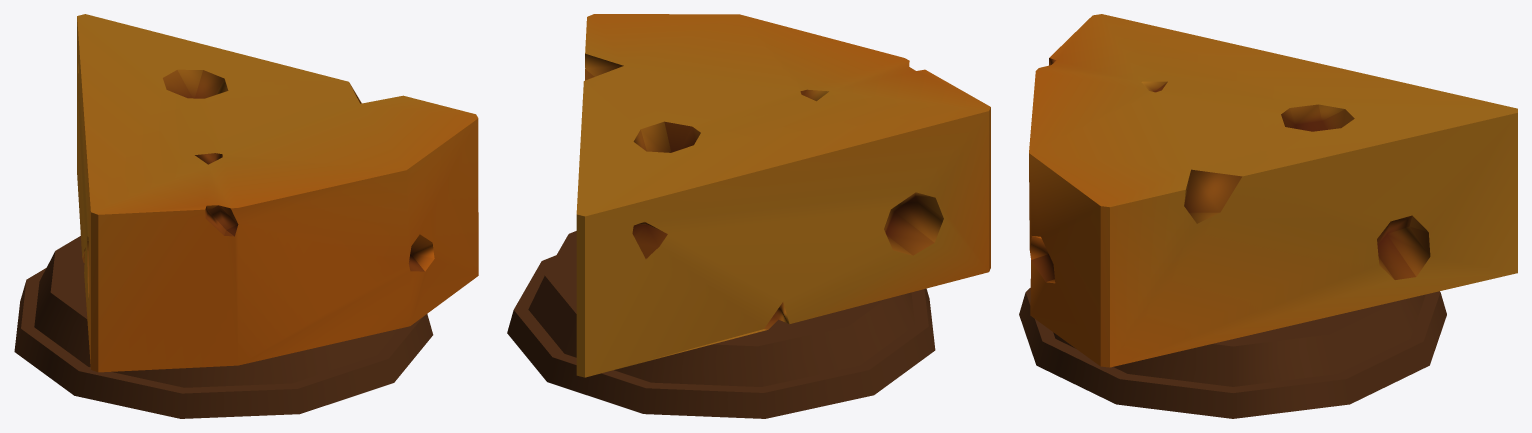
Rendered from hat_cheese.glb.
3 renders of one model, left to right at view 1: azimuth 30°, elevation 25°; view 2: azimuth 150°, elevation 25°; view 3: azimuth 270°, elevation 25°, orthographic. The views are drawn at different scales.
Parts seen in each view (by area): view 1: hat_cheese; view 2: hat_cheese; view 3: hat_cheese.
Boxes of the visible parts, bbox=[...] form: hat_cheese: bbox=[14, 14, 478, 418]; hat_cheese: bbox=[507, 14, 990, 418]; hat_cheese: bbox=[1019, 14, 1517, 418].
Size of the model in its own units: 0.3577 by 0.1964 by 0.3903.
